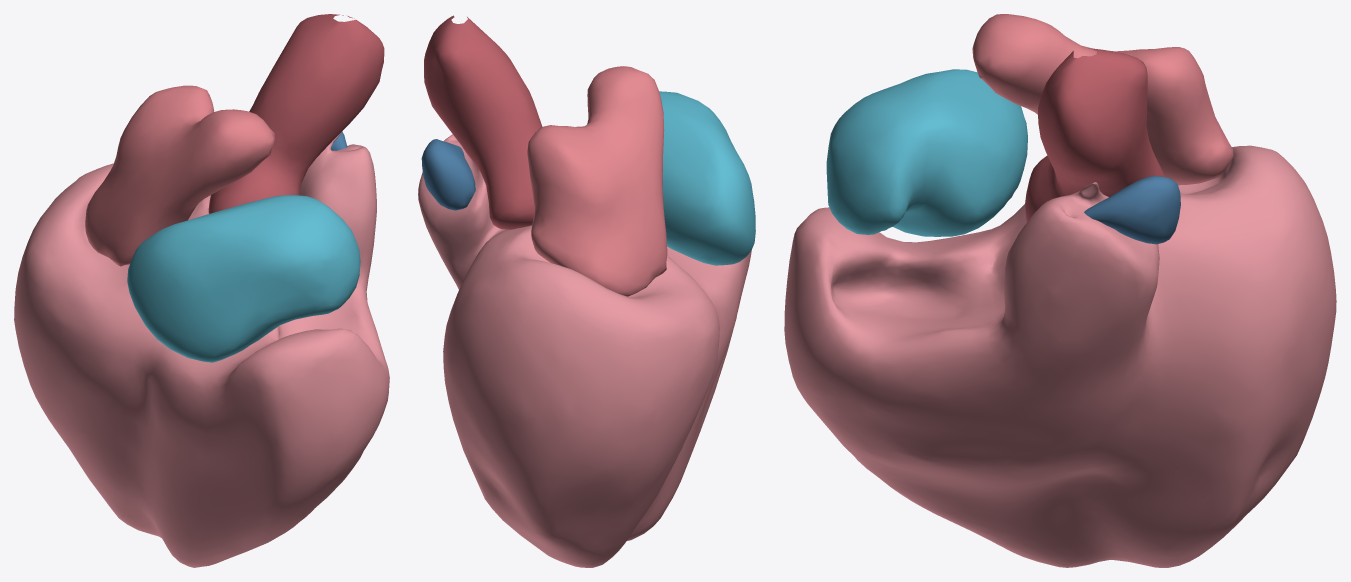
The model's file is frame_35.glb.
The picture shows the model from 3 angles, left to right: view 1: azimuth 30°, elevation 25°; view 2: azimuth 150°, elevation 25°; view 3: azimuth 270°, elevation 25°; orthographic projection. The views are drawn at different scales.
Parts seen in each view (by area): view 1: Renderer Node; view 2: Renderer Node; view 3: Renderer Node.
Boxes of the visible parts, x1,y1,x2,y2 form: Renderer Node: (14,14,389,567); Renderer Node: (418,15,755,567); Renderer Node: (784,14,1336,567).
Size of the model in its own units: 106 by 164 by 135.
